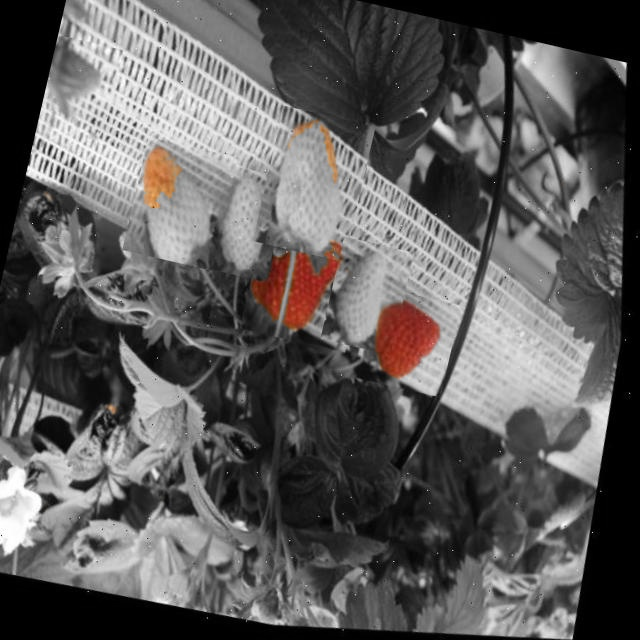ripe: (240, 223, 368, 352), (356, 286, 461, 397)
unripe: (252, 106, 374, 262), (122, 136, 238, 270), (320, 236, 414, 355), (202, 164, 290, 282), (41, 34, 122, 122)
